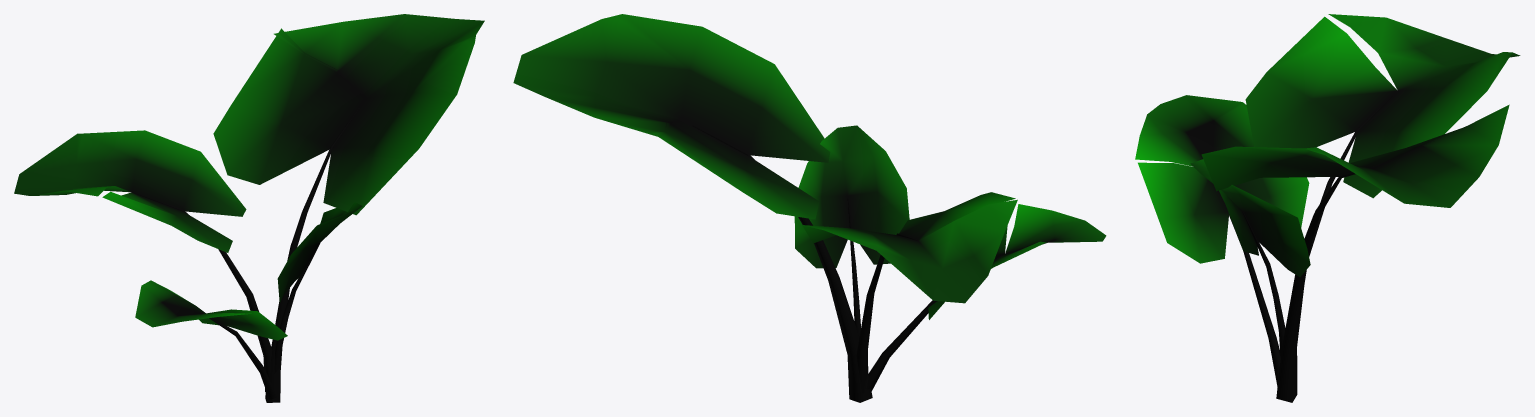
File: Alocasia01_afsTREE_xlprl15_xlod00.fbx
The picture shows the model from 3 angles, left to right: view 1: azimuth 30°, elevation 25°; view 2: azimuth 150°, elevation 25°; view 3: azimuth 270°, elevation 25°; orthographic projection. The views are drawn at different scales.
Visible parts, largest first — view 1: trunk_xw06_xt05_xlp05_xp07, alocasia_xw04_xt05_xlp04, alocasia_xw03_xt04_xlp02_xp10, alocasia_xw02_xt03_xlp02_xp06; view 2: trunk_xw06_xt05_xlp05_xp07, alocasia_xw04_xt05_xlp04, alocasia_xw02_xt03_xlp02_xp06, alocasia_xw03_xt04_xlp02_xp10; view 3: alocasia_xw04_xt05_xlp04, alocasia_xw03_xt04_xlp02_xp10, trunk_xw06_xt05_xlp05_xp07, alocasia_xw02_xt03_xlp02_xp06.
Boxes of the visible parts, x1,y1,x2,y2 form: trunk_xw06_xt05_xlp05_xp07: [213, 14, 484, 402]; alocasia_xw04_xt05_xlp04: [14, 130, 272, 392]; alocasia_xw03_xt04_xlp02_xp10: [135, 280, 287, 399]; alocasia_xw02_xt03_xlp02_xp06: [274, 202, 362, 373]; trunk_xw06_xt05_xlp05_xp07: [513, 14, 872, 402]; alocasia_xw04_xt05_xlp04: [802, 192, 1017, 393]; alocasia_xw02_xt03_xlp02_xp06: [794, 125, 909, 336]; alocasia_xw03_xt04_xlp02_xp10: [866, 204, 1106, 390]; alocasia_xw04_xt05_xlp04: [1245, 14, 1520, 279]; alocasia_xw03_xt04_xlp02_xp10: [1135, 95, 1309, 386]; trunk_xw06_xt05_xlp05_xp07: [1201, 104, 1509, 402]; alocasia_xw02_xt03_xlp02_xp06: [1190, 159, 1310, 364].
Bounding box in the file's own units: 2.56 × 1.57 × 1.69.
